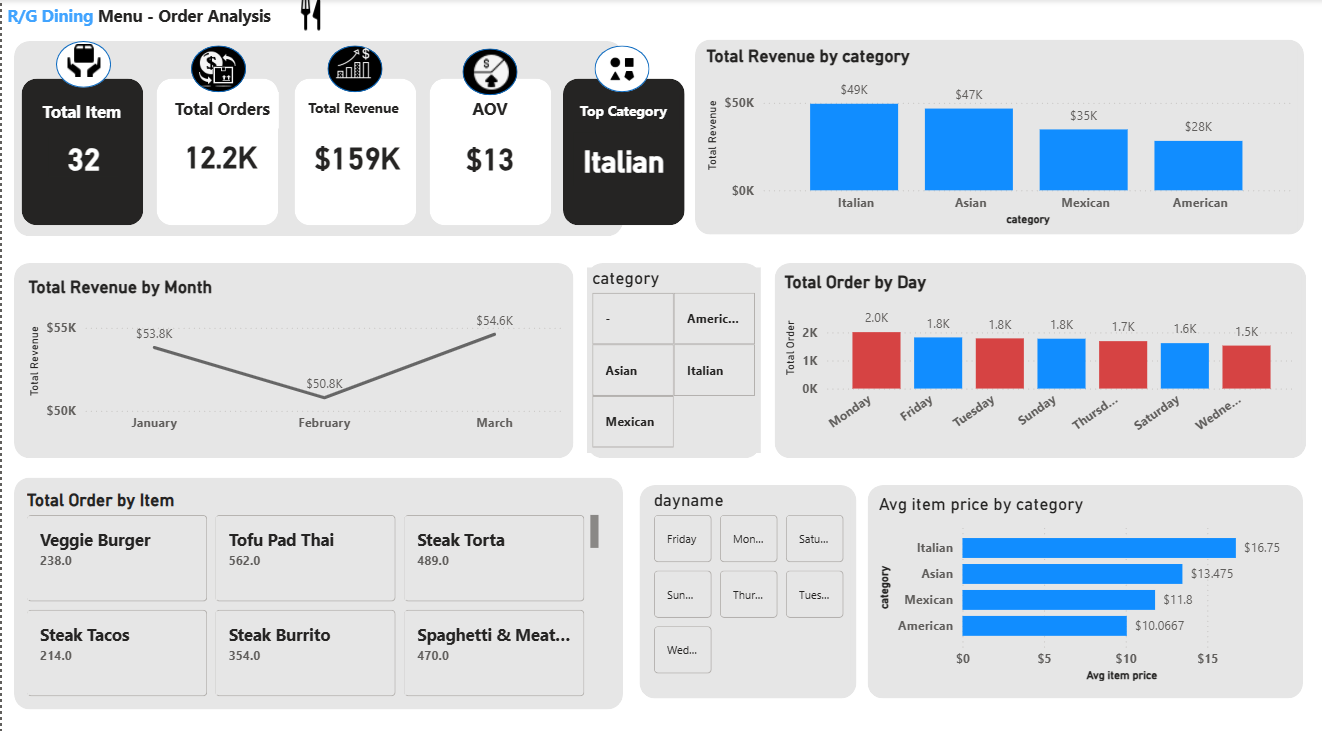

The dashboard page shown, as its layout file describes it:
{"tool":"powerbi","page":{"name":"Page 1","canvas":[1280,720],"ordinal":0},"visuals":[{"type":"shape","box":[11.3,40.5,591,189.4],"z":0,"group":"g7"},{"type":"shape","box":[19.4,77.7,118.2,142.5],"z":0,"group":"g4"},{"type":"shape","box":[150,77.7,118.2,142.5],"z":0,"group":"g3"},{"type":"shape","box":[284,77.7,118.2,142.5],"z":0,"group":"g2"},{"type":"shape","box":[415,77.7,118.2,142.5],"z":0,"group":"g6"},{"type":"shape","box":[544,77.7,118.2,142.5],"z":0,"group":"g5"},{"type":"textbox","box":[0,0,275.3,38.9],"z":1000,"group":"g7"},{"type":"card","fields":{"Values":["menu_items.Total Order"]},"box":[169.4,126.3,85.8,53.4],"z":1000,"group":"g3"},{"type":"card","fields":{"Values":["menu_items.AOV"]},"box":[421.5,129.5,105.2,48.6],"z":1000,"group":"g6"},{"type":"card","fields":{"Values":["menu_items.Total Revenue"]},"box":[292.1,131.1,103.6,43.7],"z":1000,"group":"g2"},{"type":"card","fields":{"Values":["menu_items.Total Menu Item"]},"box":[45.3,134.4,68,38.9],"z":1000,"group":"g4"},{"type":"textbox","box":[158.1,90.7,110.1,35.6],"z":2000,"group":"g3"},{"type":"textbox","box":[287.2,90.7,108.5,40.5],"z":2000,"group":"g2"},{"type":"textbox","box":[421.5,90.7,105.2,42.1],"z":2000,"group":"g6"},{"type":"textbox","box":[25.9,93.9,105.2,40.5],"z":2000,"group":"g4"},{"type":"textbox","box":[548.9,93.9,108.5,32.4],"z":2000,"group":"g5"},{"type":"shape","box":[840.4,471.2,422.6,207.3],"z":2000,"group":"g7"},{"type":"shape","box":[11.3,464.7,591,225.1],"z":3000,"group":"g7"},{"type":"shape","box":[749,256,516,189.4],"z":4000,"group":"g7"},{"type":"shape","box":[568.3,255.8,168.4,189.4],"z":5000,"group":"g7"},{"type":"shape","box":[672,38.9,591,189.4],"z":6000,"group":"g7"},{"type":"shape","box":[11.3,256,543,189.4],"z":7000,"group":"g7"},{"type":"group","id":"g1","title":"Group 2","box":[415,77.7,118.2,142.5],"z":8000,"group":"g7"},{"type":"group","id":"g2","title":"Group 3","box":[284,77.7,118.2,142.5],"z":9000,"group":"g7"},{"type":"group","id":"g3","title":"Group 4","box":[150,77.7,118.2,142.5],"z":10000,"group":"g7"},{"type":"group","id":"g4","title":"Group 5","box":[19.4,77.7,118.2,142.5],"z":11000,"group":"g7"},{"type":"group","id":"g5","title":"Group 1","box":[544,77.7,118.2,142.5],"z":12000,"group":"g7"},{"type":"group","id":"g6","title":"Group 6","box":[415,77.7,118.2,142.5],"z":12001,"group":"g1"},{"type":"card","fields":{"Values":["menu_items.Top Category"]},"box":[553.8,129.5,97.2,51.8],"z":12001,"group":"g5"},{"type":"clusteredColumnChart","fields":{"Y":["menu_items.Total Revenue"],"Category":["menu_items.category"]},"box":[678.3,45,578.3,179.2],"z":13000,"group":"g7"},{"type":"advancedSlicerVisual","fields":{"Values":["menu_items.item_name"],"Label":["menu_items.Total Order"]},"box":[19.4,476.1,565.1,207.3],"z":14000,"group":"g7"},{"type":"lineChart","fields":{"Y":["menu_items.Total Revenue"],"Category":["order_details.order_date.Variation.Date Hierarchy.Month"]},"box":[20,270,528.3,160],"z":15000,"group":"g7"},{"type":"columnChart","title":"Total Order by Day","fields":{"Category":["order_details.dayname"],"Y":["menu_items.Total Order"]},"box":[754,265.6,506.8,166.8],"z":16000,"group":"g7"},{"type":"advancedSlicerVisual","fields":{"Values":["menu_items.category"]},"box":[568.3,260.7,168.4,179.7],"z":17000,"group":"g7"},{"type":"shape","box":[618.5,471.2,210.5,207.3],"z":18000,"group":"g7"},{"type":"advancedSlicerVisual","fields":{"Values":["order_details.dayname"]},"box":[626.6,476.1,195.9,186.2],"z":19000,"group":"g7"},{"type":"barChart","fields":{"Category":["menu_items.category"],"Y":["menu_items.Average Revenue"]},"box":[845.2,480.9,411.3,186.2],"z":20000,"group":"g7"},{"type":"image","box":[268.8,0,61.5,30.8],"z":21000,"group":"g7"},{"type":"shape","box":[315.7,45.3,53.4,45.3],"z":22000,"group":"g7"},{"type":"image","box":[322.2,30.8,38.9,63.1],"z":23000,"group":"g7"},{"type":"shape","box":[183,45.3,53.4,45.3],"z":24000,"group":"g7"},{"type":"shape","box":[51.8,40.5,53.4,45.3],"z":25000,"group":"g7"},{"type":"shape","box":[446.9,48.6,53.4,45.3],"z":26000,"group":"g7"},{"type":"shape","box":[574.8,45.3,53.4,45.3],"z":27000,"group":"g7"},{"type":"group","id":"g7","title":"Group 7","box":[0,0,1265,689.8],"z":27005},{"type":"image","box":[173.3,50.2,71.2,35.6],"z":28000,"group":"g7"},{"type":"image","box":[455,43.7,38.9,55.1],"z":29000,"group":"g7"},{"type":"image","box":[582.9,55.1,38.9,25.9],"z":30000,"group":"g7"},{"type":"image","box":[58.3,43.7,43,32],"z":31000,"group":"g7"}]}

Visuals, with their boxes in screenshot pixels (x1, y1, x2, y2), scaled from the page's 1280x720 canvas onto the 1322x731 screenshot:
shape: pyautogui.locateOnScreen(12, 41, 622, 233)
shape: pyautogui.locateOnScreen(20, 79, 142, 224)
shape: pyautogui.locateOnScreen(155, 79, 277, 224)
shape: pyautogui.locateOnScreen(293, 79, 415, 224)
shape: pyautogui.locateOnScreen(429, 79, 551, 224)
shape: pyautogui.locateOnScreen(562, 79, 684, 224)
textbox: pyautogui.locateOnScreen(0, 0, 284, 39)
card - menu_items.Total Order: pyautogui.locateOnScreen(175, 128, 264, 182)
card - menu_items.AOV: pyautogui.locateOnScreen(435, 131, 544, 181)
card - menu_items.Total Revenue: pyautogui.locateOnScreen(302, 133, 409, 177)
card - menu_items.Total Menu Item: pyautogui.locateOnScreen(47, 136, 117, 176)
textbox: pyautogui.locateOnScreen(163, 92, 277, 128)
textbox: pyautogui.locateOnScreen(297, 92, 409, 133)
textbox: pyautogui.locateOnScreen(435, 92, 544, 135)
textbox: pyautogui.locateOnScreen(27, 95, 135, 136)
textbox: pyautogui.locateOnScreen(567, 95, 679, 128)
shape: pyautogui.locateOnScreen(868, 478, 1304, 689)
shape: pyautogui.locateOnScreen(12, 472, 622, 700)
shape: pyautogui.locateOnScreen(774, 260, 1307, 452)
shape: pyautogui.locateOnScreen(587, 260, 761, 452)
shape: pyautogui.locateOnScreen(694, 39, 1304, 232)
shape: pyautogui.locateOnScreen(12, 260, 572, 452)
"Group 2" group: pyautogui.locateOnScreen(429, 79, 551, 224)
"Group 3" group: pyautogui.locateOnScreen(293, 79, 415, 224)
"Group 4" group: pyautogui.locateOnScreen(155, 79, 277, 224)
"Group 5" group: pyautogui.locateOnScreen(20, 79, 142, 224)
"Group 1" group: pyautogui.locateOnScreen(562, 79, 684, 224)
"Group 6" group: pyautogui.locateOnScreen(429, 79, 551, 224)
card - menu_items.Top Category: pyautogui.locateOnScreen(572, 131, 672, 184)
clusteredColumnChart - menu_items.Total Revenue x menu_items.category: pyautogui.locateOnScreen(701, 46, 1298, 228)
advancedSlicerVisual - menu_items.item_name x menu_items.Total Order: pyautogui.locateOnScreen(20, 483, 604, 694)
lineChart - menu_items.Total Revenue x order_details.order_date.Variation.Date Hierarchy.Month: pyautogui.locateOnScreen(21, 274, 566, 437)
"Total Order by Day" columnChart: pyautogui.locateOnScreen(779, 270, 1302, 439)
advancedSlicerVisual - menu_items.category: pyautogui.locateOnScreen(587, 265, 761, 447)
shape: pyautogui.locateOnScreen(639, 478, 856, 689)
advancedSlicerVisual - order_details.dayname: pyautogui.locateOnScreen(647, 483, 849, 672)
barChart - menu_items.category x menu_items.Average Revenue: pyautogui.locateOnScreen(873, 488, 1298, 677)
image: pyautogui.locateOnScreen(278, 0, 341, 31)
shape: pyautogui.locateOnScreen(326, 46, 381, 92)
image: pyautogui.locateOnScreen(333, 31, 373, 95)
shape: pyautogui.locateOnScreen(189, 46, 244, 92)
shape: pyautogui.locateOnScreen(53, 41, 109, 87)
shape: pyautogui.locateOnScreen(462, 49, 517, 95)
shape: pyautogui.locateOnScreen(594, 46, 649, 92)
"Group 7" group: pyautogui.locateOnScreen(0, 0, 1307, 700)
image: pyautogui.locateOnScreen(179, 51, 253, 87)
image: pyautogui.locateOnScreen(470, 44, 510, 100)
image: pyautogui.locateOnScreen(602, 56, 642, 82)
image: pyautogui.locateOnScreen(60, 44, 105, 77)
